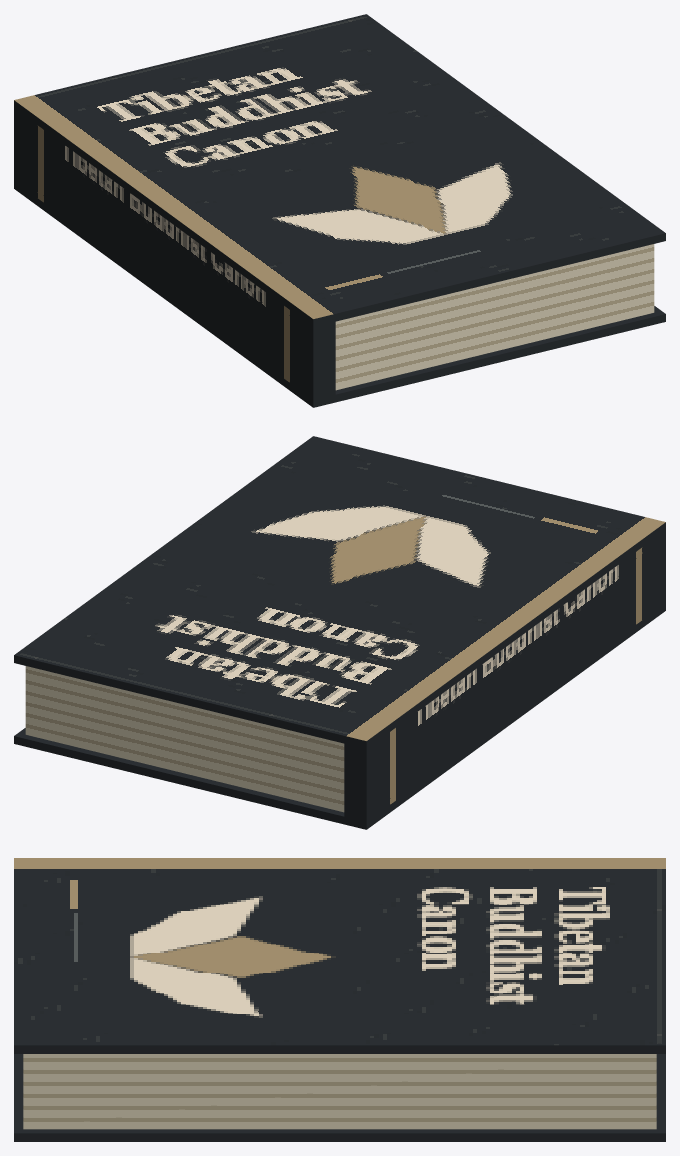
Rendered from holybook_tibetan.glb.
3 renders of one model, top to bottom at view 1: azimuth 30°, elevation 25°; view 2: azimuth 150°, elevation 25°; view 3: azimuth 270°, elevation 25°, orthographic. The views are drawn at different scales.
Parts seen in each view (by area): view 1: block_front cover, block_spine, block_page block, block_back cover; view 2: block_front cover, block_spine, block_page block, block_back cover; view 3: block_front cover, block_page block, block_back cover.
Boxes of the visible parts, box(x1,y1,x2,y2) form: block_front cover: box(14, 14, 665, 326); block_spine: box(14, 108, 335, 399); block_page block: box(335, 244, 654, 390); block_back cover: box(14, 181, 665, 407); block_front cover: box(14, 436, 665, 748); block_spine: box(344, 530, 665, 821); block_page block: box(25, 666, 344, 812); block_back cover: box(14, 603, 665, 829); block_front cover: box(14, 858, 665, 1053); block_page block: box(23, 1054, 656, 1129); block_back cover: box(14, 1054, 665, 1141).
Bounding box in the file's own units: 0.1414 × 0.034 × 0.208.
1 material, 1 textured.
